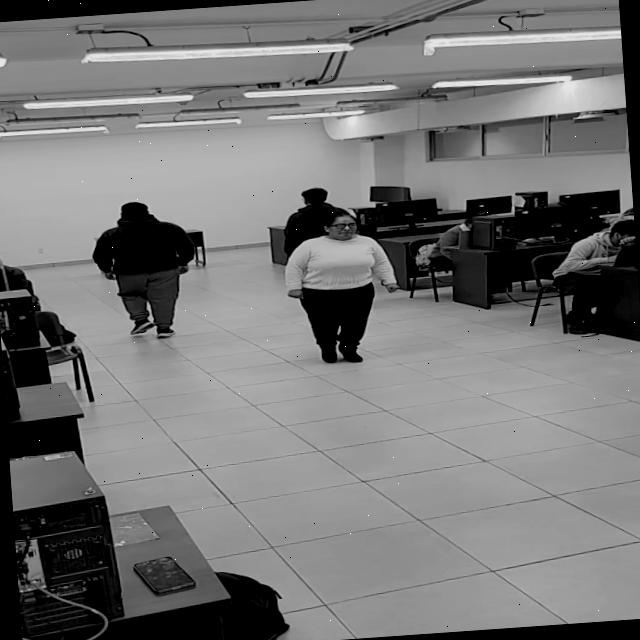Persona: (276, 208, 410, 373), (82, 191, 212, 350)
